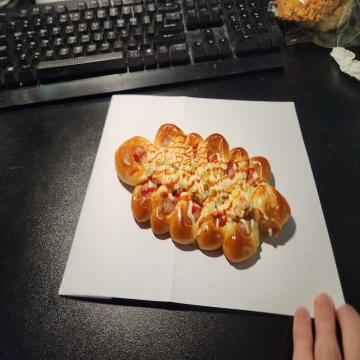pizza_bread: (114, 124, 293, 265)
